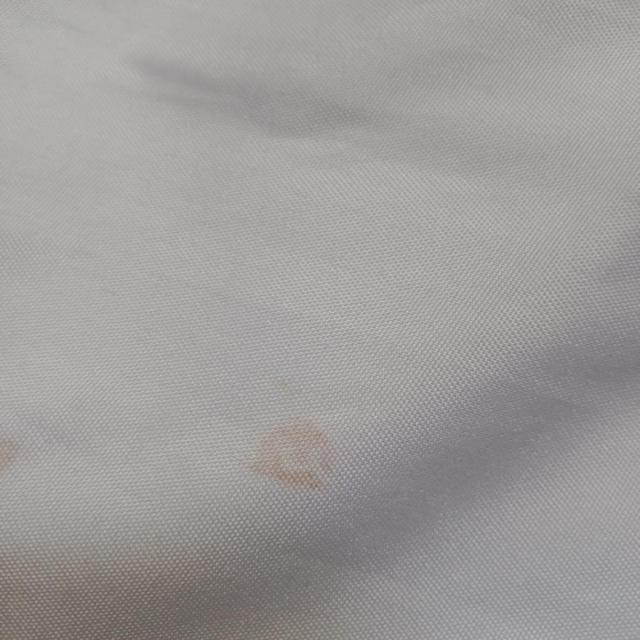stain: (249, 410, 340, 487)
